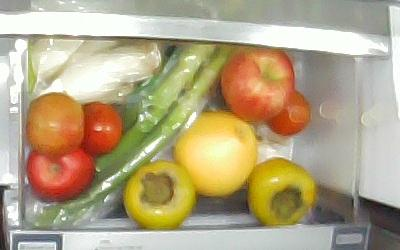apple: (222, 47, 294, 118), (27, 148, 94, 199)
grapefruit: (174, 110, 257, 197)
persimmon: (122, 160, 195, 229), (247, 155, 316, 225)
prune: (27, 94, 84, 157), (79, 101, 122, 154), (264, 90, 310, 137)
